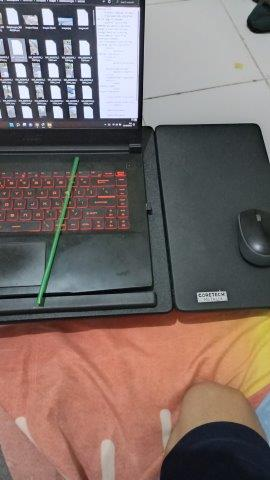sedotan: (38, 157, 79, 302)
